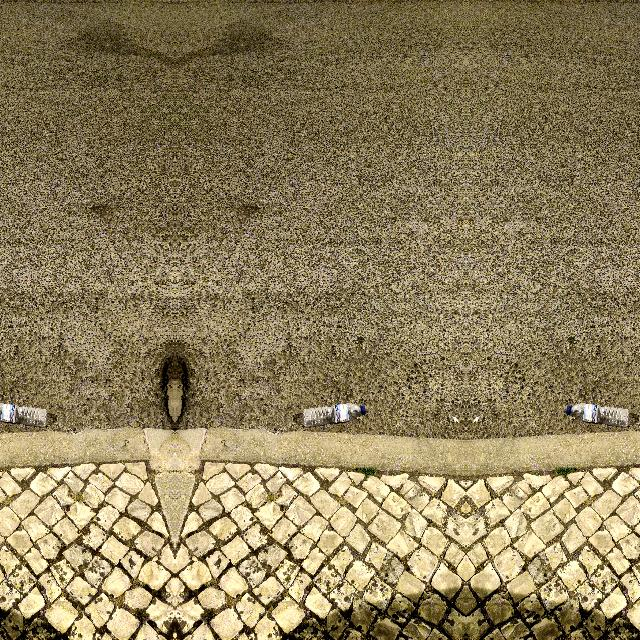Plastic: (295, 398, 381, 434), (550, 398, 636, 434), (0, 398, 53, 434)
